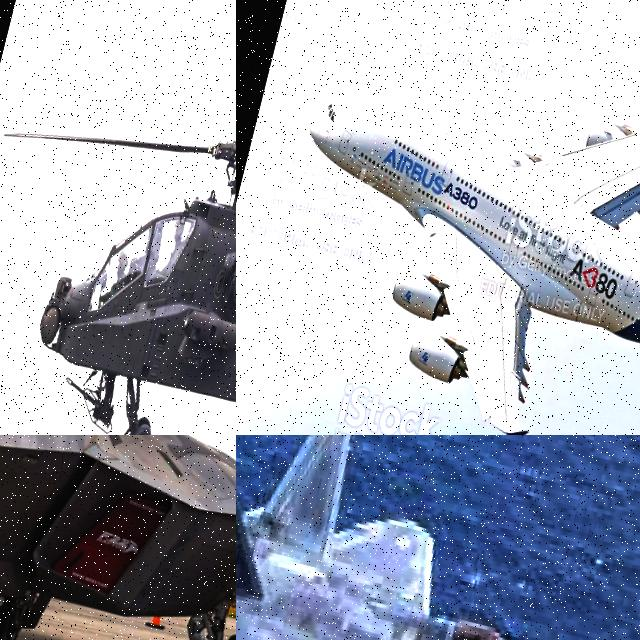A380: (236, 0, 640, 435)
Apache: (0, 0, 236, 435)
F22: (236, 435, 640, 640), (0, 435, 236, 640)
